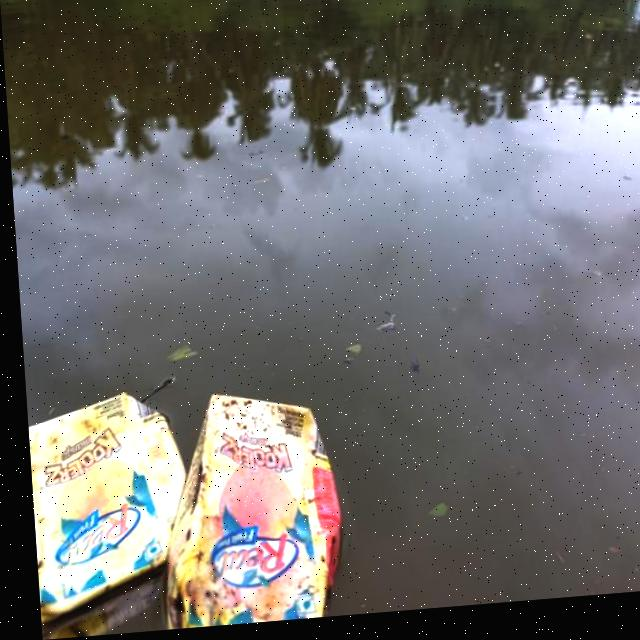paper: (20, 379, 187, 640), (183, 371, 344, 630)
